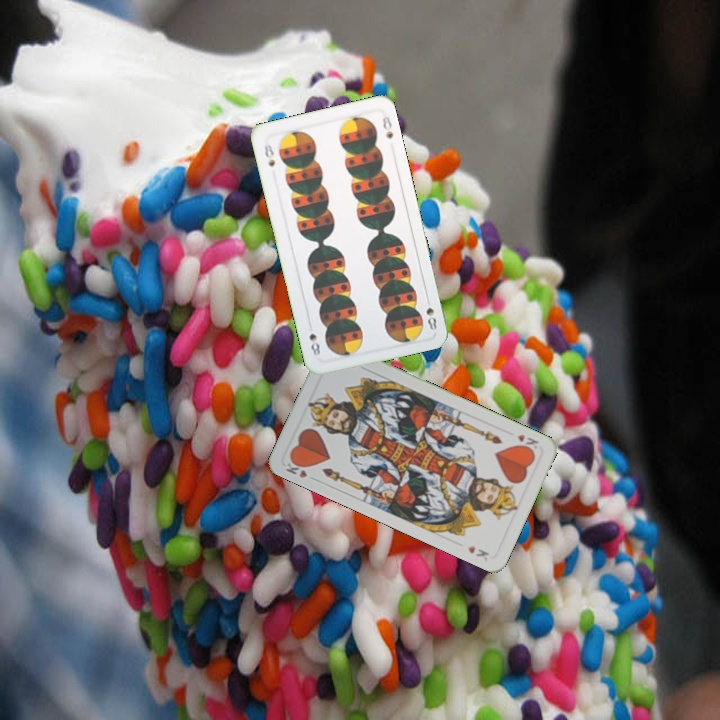HK: (281, 455, 320, 484), (513, 430, 541, 455)
S8: (422, 303, 439, 333), (260, 141, 278, 169)
